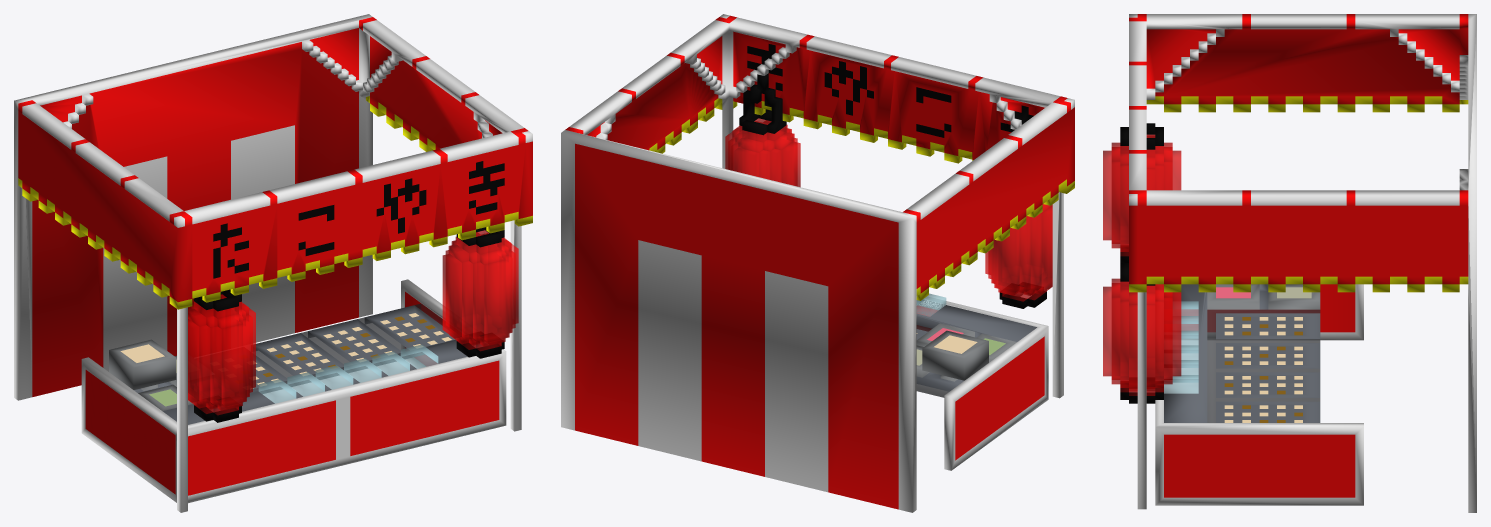
Rendered from FoodStalls1.fbx.
The picture shows the model from 3 angles, left to right: view 1: azimuth 30°, elevation 25°; view 2: azimuth 150°, elevation 25°; view 3: azimuth 270°, elevation 25°; orthographic projection. The views are drawn at different scales.
Parts seen in each view (by area): view 1: ObjObject.002, ObjObject.003, ObjObject.001, ObjObject; view 2: ObjObject.002, ObjObject, ObjObject.003, ObjObject.001; view 3: ObjObject.002, ObjObject.003, ObjObject.001, ObjObject.
Part boxes in pixels (bbox=[...]): ObjObject.002: bbox=[14, 14, 532, 512]; ObjObject.003: bbox=[81, 279, 506, 503]; ObjObject.001: bbox=[109, 303, 482, 424]; ObjObject: bbox=[188, 227, 518, 422]; ObjObject.002: bbox=[561, 14, 1074, 512]; ObjObject: bbox=[725, 73, 1052, 308]; ObjObject.003: bbox=[916, 297, 1048, 470]; ObjObject.001: bbox=[916, 293, 1036, 397]; ObjObject.002: bbox=[1129, 14, 1476, 512]; ObjObject.003: bbox=[1155, 284, 1363, 505]; ObjObject.001: bbox=[1164, 284, 1320, 422]; ObjObject: bbox=[1103, 123, 1181, 403].
Bounding box in the file's own units: 500 × 400 × 430.
